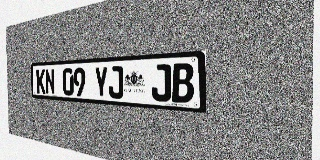0: (62, 68, 74, 96)
9: (73, 67, 86, 97)
B: (172, 63, 194, 103)
J: (151, 64, 171, 102), (108, 66, 124, 99)
K: (36, 69, 45, 94)
N: (45, 69, 55, 95)
Y: (94, 66, 108, 98)
